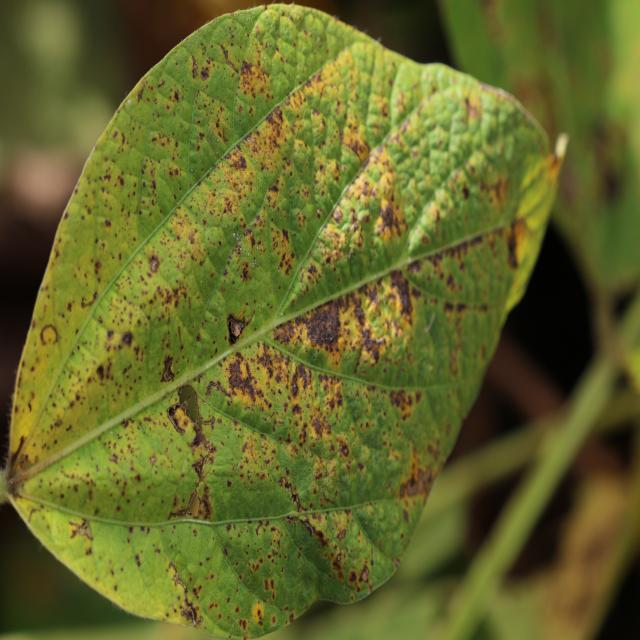Bacterial_Blight: (16, 315, 66, 422), (280, 296, 341, 352), (530, 129, 567, 204), (170, 385, 212, 450), (225, 230, 264, 281), (277, 473, 317, 522), (444, 314, 467, 378), (168, 483, 205, 521), (402, 461, 436, 498), (506, 215, 530, 266), (221, 302, 251, 342), (376, 199, 403, 238), (390, 276, 413, 318), (159, 281, 187, 311), (345, 558, 371, 589), (8, 439, 27, 476), (464, 93, 482, 123), (180, 600, 201, 625), (220, 43, 238, 71), (205, 379, 230, 398), (73, 518, 93, 541), (39, 324, 58, 347), (310, 416, 327, 440), (160, 357, 175, 383), (80, 290, 98, 309), (199, 59, 214, 81), (28, 506, 43, 525), (232, 153, 247, 170), (332, 206, 344, 223), (190, 57, 199, 79), (148, 256, 160, 272), (121, 331, 133, 347), (263, 577, 275, 593), (332, 559, 343, 576), (461, 183, 471, 200), (95, 364, 105, 380), (336, 528, 347, 541), (340, 443, 349, 457), (238, 619, 247, 631), (172, 89, 180, 102), (149, 454, 157, 467), (270, 614, 277, 625), (256, 606, 262, 618), (104, 218, 111, 228), (226, 479, 232, 487)
Soybean: (0, 4, 566, 640)
